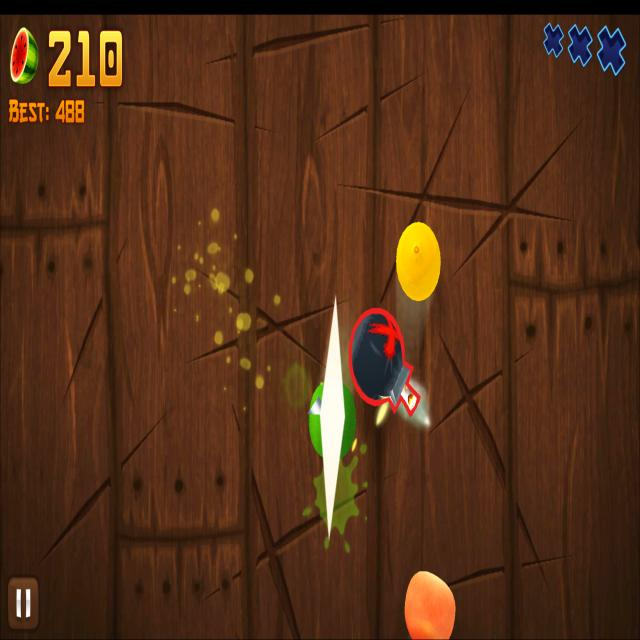bomb: (348, 307, 422, 418)
fruit: (308, 378, 356, 459), (396, 220, 441, 302), (404, 570, 456, 640)
